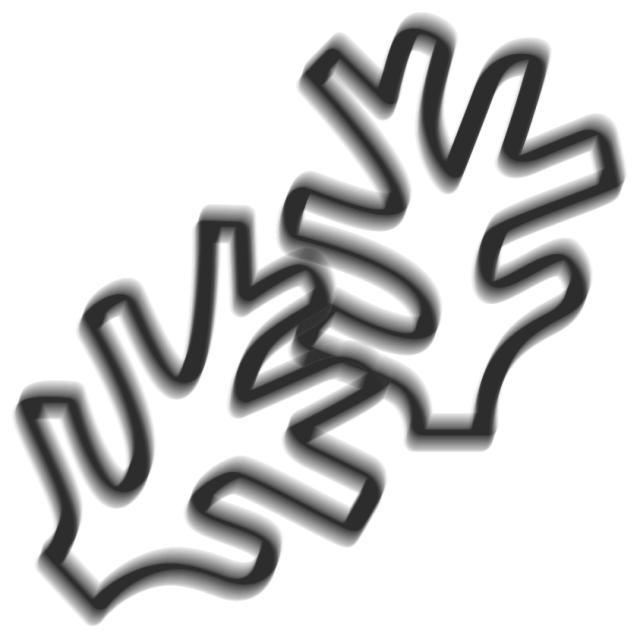coral: (4, 200, 406, 637), (264, 11, 636, 466)
